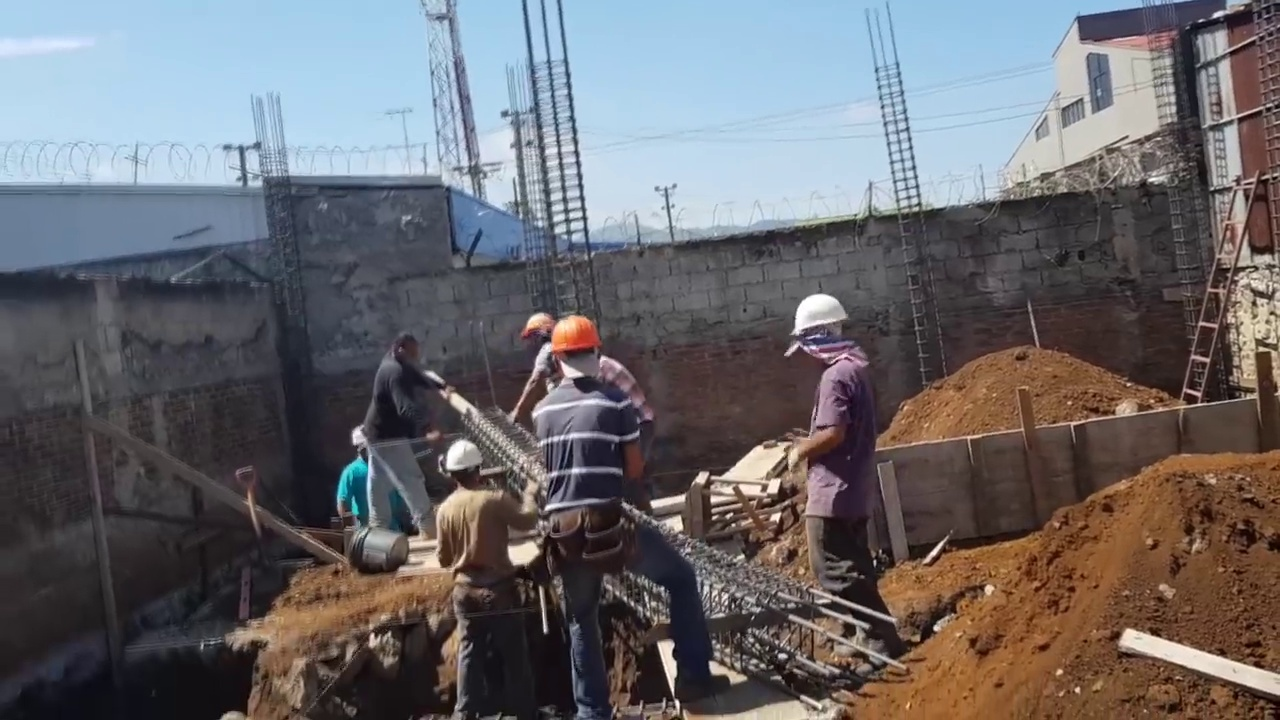helmet: (785, 296, 846, 340), (549, 315, 602, 356), (444, 437, 483, 472), (519, 314, 553, 343), (349, 426, 367, 449)
helmet-off: (386, 337, 415, 368)
helmet-on: (784, 291, 856, 361), (551, 317, 599, 384), (445, 440, 482, 488), (518, 313, 553, 350), (350, 426, 369, 465)
person: (533, 317, 737, 717), (785, 298, 893, 692), (425, 437, 530, 718), (341, 330, 446, 549), (501, 313, 561, 428), (328, 425, 383, 531)
